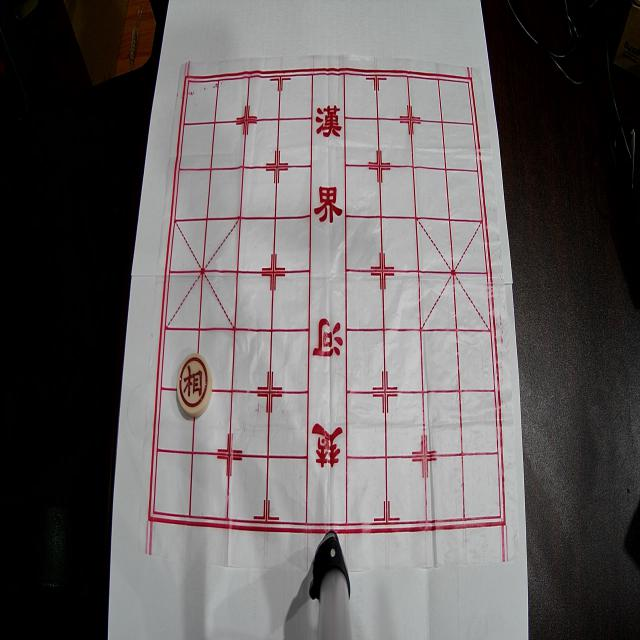red-elephant: (178, 353, 212, 417)
